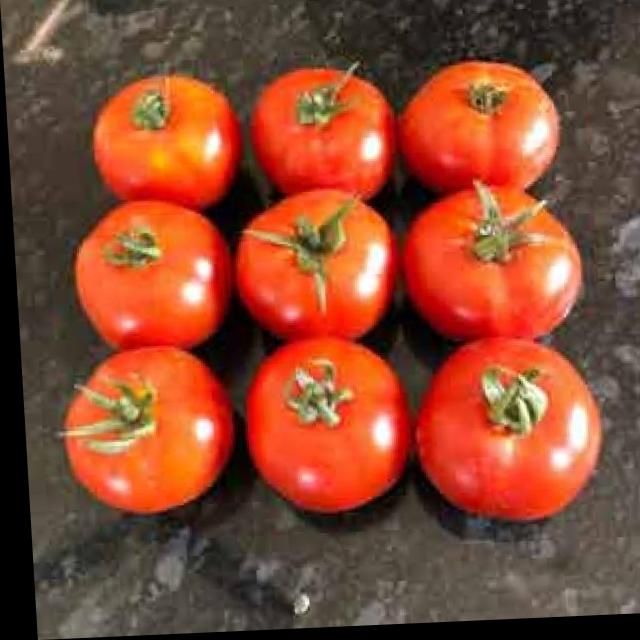kirmizi: (84, 60, 592, 547)
